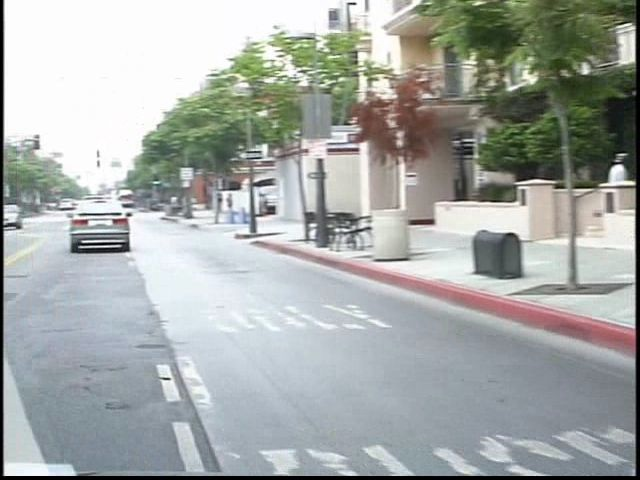person: (580, 144, 621, 245), (212, 186, 227, 220)
